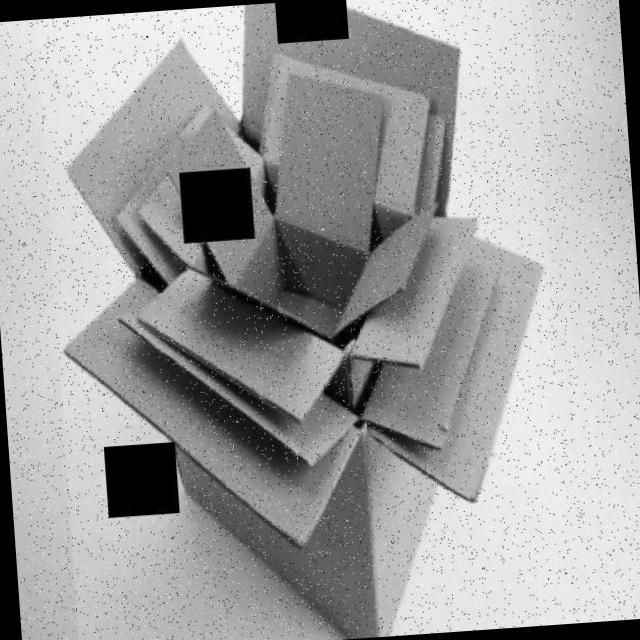box: (35, 0, 573, 640)
